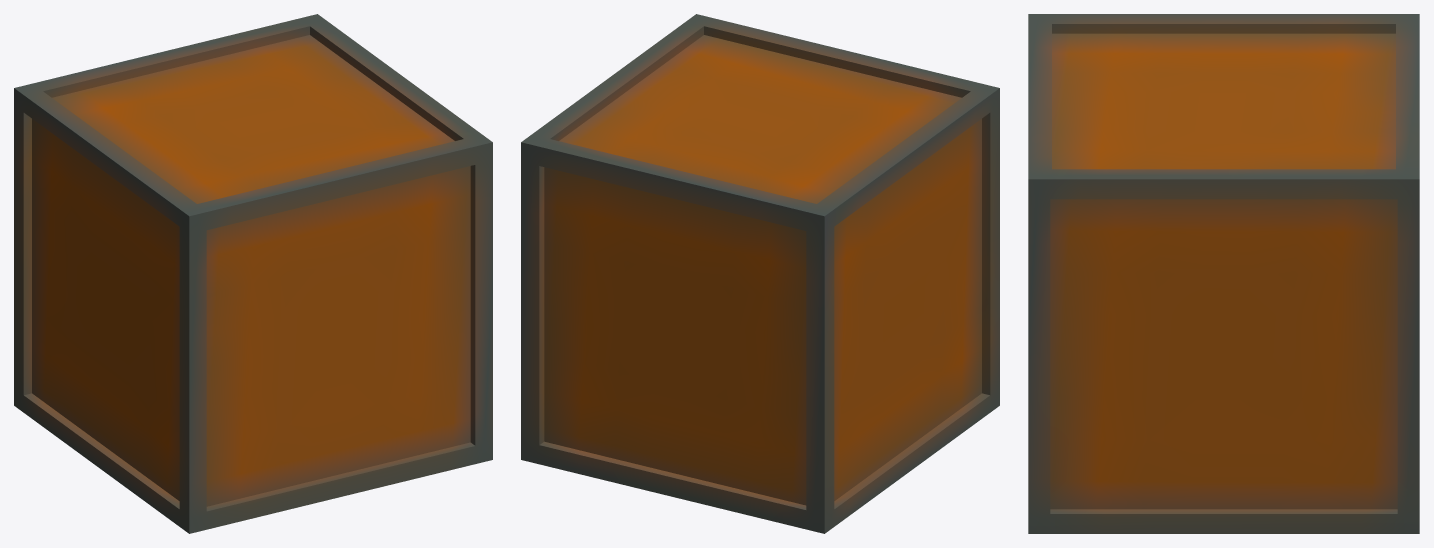
The model's file is kit-crate.glb.
3 views of the same model, side by side, from view 1: azimuth 30°, elevation 25°; view 2: azimuth 150°, elevation 25°; view 3: azimuth 270°, elevation 25° (orthographic). The views are drawn at different scales.
Visible parts, largest first — view 1: Cube.293; view 2: Cube.293; view 3: Cube.293.
Boxes of the visible parts, x1=… form: Cube.293: x1=14, y1=14, x2=492, y2=533; Cube.293: x1=521, y1=14, x2=999, y2=533; Cube.293: x1=1028, y1=14, x2=1419, y2=533.
Size of the model in its own units: 0.5459 by 0.5459 by 0.5459.
Materials: 1 (1 with a texture image).
